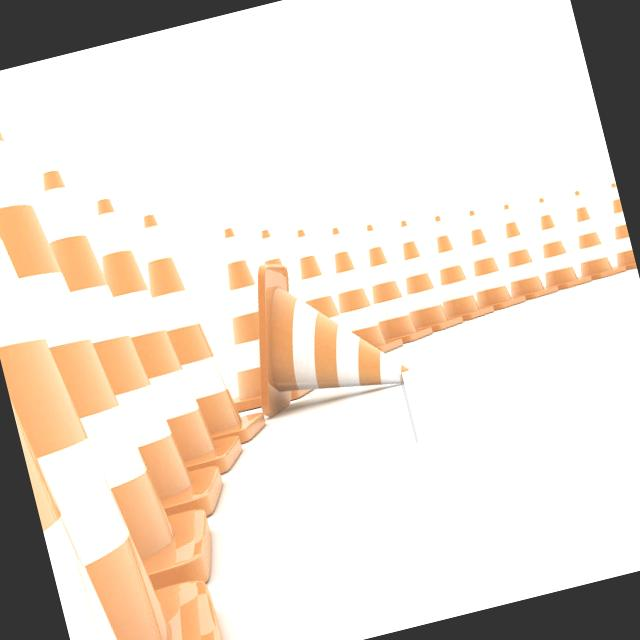cone: (589, 165, 640, 301), (518, 188, 579, 294), (481, 199, 545, 299), (557, 182, 614, 291)
